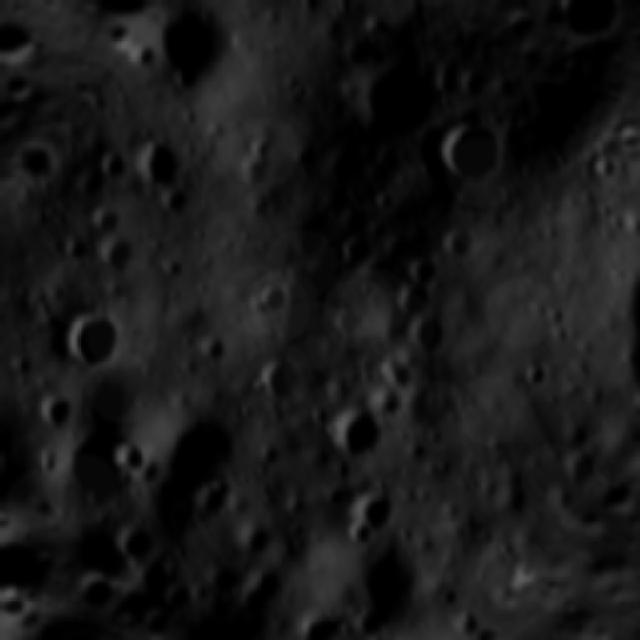crater: (132, 0, 260, 108), (346, 43, 454, 149), (427, 108, 524, 203), (56, 297, 136, 378), (319, 390, 392, 462), (232, 550, 302, 621), (341, 482, 405, 549), (263, 0, 405, 29), (130, 125, 193, 188), (247, 350, 308, 412), (245, 262, 302, 320), (31, 382, 86, 436), (403, 305, 455, 358), (95, 228, 147, 281), (327, 223, 378, 274), (436, 217, 486, 266), (558, 442, 608, 491), (499, 544, 544, 596), (155, 572, 203, 618), (583, 142, 629, 187), (450, 58, 495, 102), (84, 196, 128, 239), (404, 248, 447, 290), (94, 142, 135, 182), (118, 522, 158, 562), (394, 281, 431, 319), (160, 182, 197, 220), (522, 357, 556, 392), (435, 578, 468, 612), (615, 426, 640, 456), (0, 255, 14, 298), (626, 386, 640, 417)
